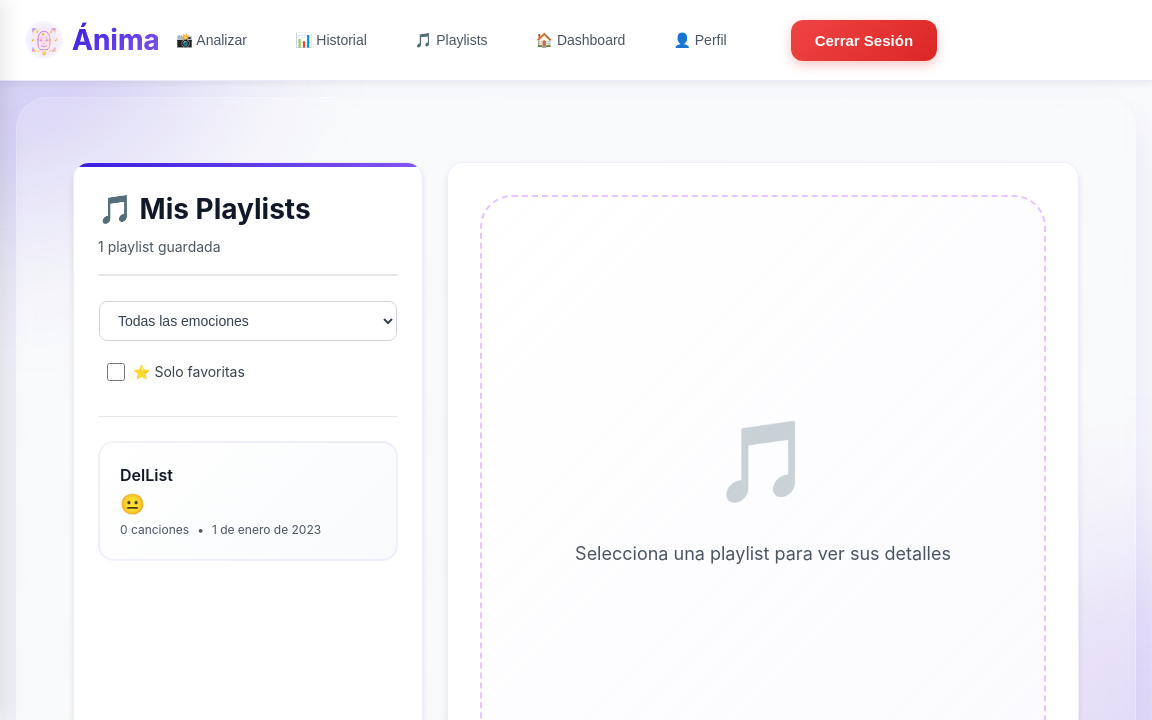
Test: PlaylistsPage › deletes playlist when confirm accepted
This screenshot has width=1152, height=720.
Click the heading "DelList" at (146, 475), box [120,465,173,485]
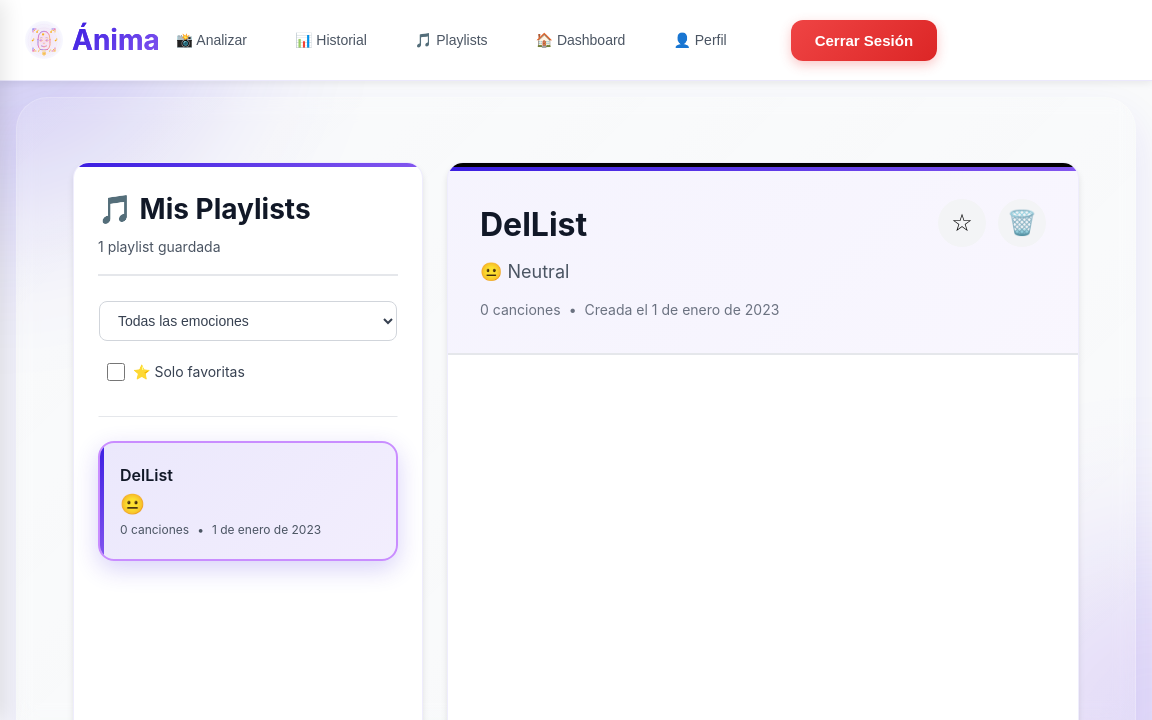
Click the button titled "Eliminar playlist" at (1022, 223), box [998,199,1046,247]
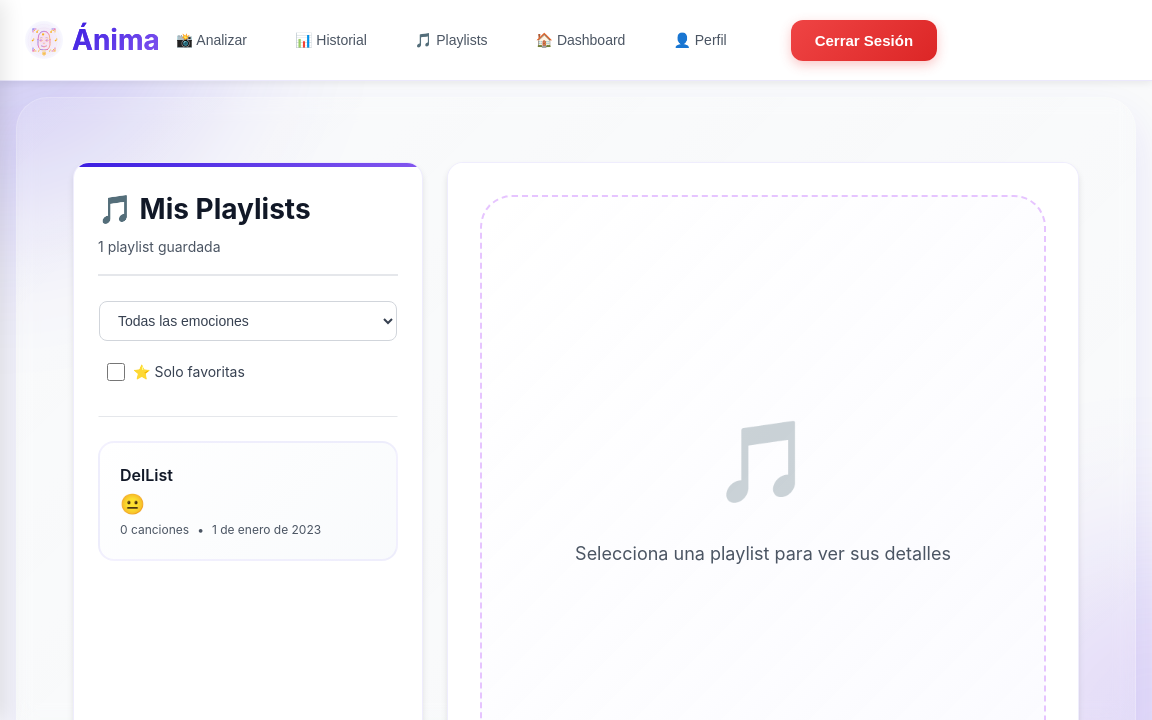
Expected: the text "Selecciona una playlist para ver sus detalles" is shown, [575,540,951,568]
